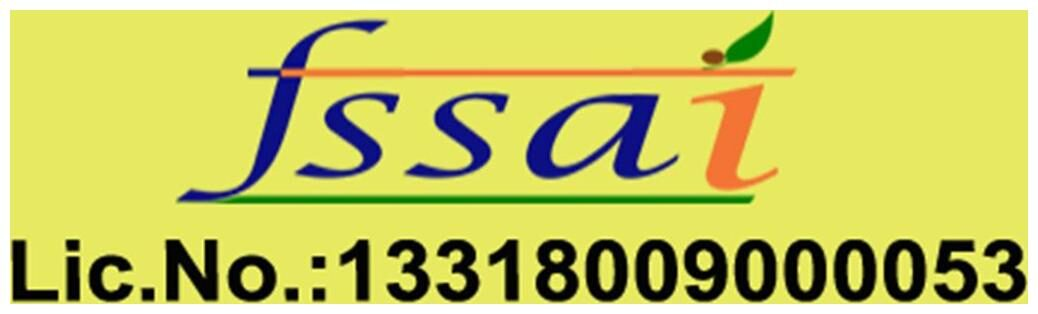fssai: (177, 16, 788, 209)
